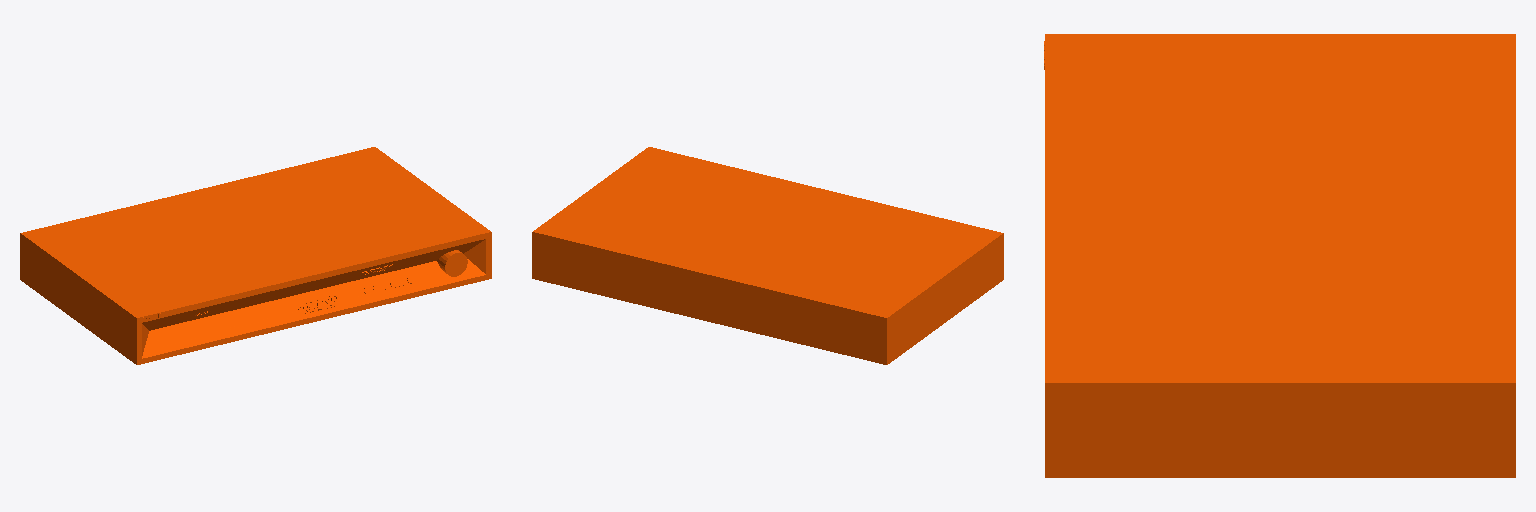
robot.urdf — MediaPlayer_9a58a1b4c67869f37a0e234f9234f844:
<?xml version="1.0" ?>
<robot name="MediaPlayer_9a58a1b4c67869f37a0e234f9234f844">
   <material name="obj_color">
      <color rgba="1.0 0.423529411765 0.0392156862745 1.0"/>
   </material>
   <link name="top">
      <inertial>
         <origin rpy="8.614026943605537e-06 2.578268856319428e-05 3.358041574820445e-05" xyz="-0.0004156640224251239 0.002787803778472666 -4.98381118888581e-06"/>
         <mass value="0.04264578714590586"/>
         <inertia ixx="8.614028009485967e-06" ixy="-4.267204877913518e-09" ixz="3.630450465956032e-10" iyy="2.578268753846936e-05" iyz="5.289797197108656e-10" izz="3.358041570704894e-05"/>
      </inertial>
      <visual>
         <origin rpy="0 0 0" xyz="0 0 0"/>
         <geometry>
            <mesh filename="top_watertight_tiny.stl" scale="1 1 1"/>
         </geometry>
         <material name="obj_color"/>
      </visual>
      <collision>
         <origin rpy="0 0 0" xyz="0 0 0"/>
         <geometry>
            <mesh filename="top_watertight_tiny.obj" scale="1 1 1"/>
         </geometry>
      </collision>
   </link>
   <link name="bottom">
      <inertial>
         <origin rpy="1.633333333199431e-08 1.633333333199431e-08 1.633333333362855e-08" xyz="0.3464080000000008 0.3464080000000008 0.3464080000000008"/>
         <mass value="0.0009800000000000017"/>
         <inertia ixx="1.633333333253906e-08" ixy="5.447480642029219e-19" ixz="5.447480642029219e-19" iyy="1.633333333253906e-08" iyz="5.447480642029219e-19" izz="1.633333333253906e-08"/>
      </inertial>
      <visual>
         <origin rpy="0 0 0" xyz="0 0 0"/>
         <geometry>
            <mesh filename="bottom_watertight_tiny.stl" scale="1 1 1"/>
         </geometry>
         <material name="obj_color"/>
      </visual>
   </link>
   <joint name="rotation" type="revolute">
      <origin xyz="0 0 0"/>
      <axis xyz="0 0 -1"/>
      <parent link="bottom"/>
      <child link="top"/>
      <dynamics damping="1.0" friction="1.0"/>
      <limit effort="0.1" velocity="0.1" lower="0" upper="0.001"/>
   </joint>
</robot>

--- Facts derived from the render (not from the file) ---
3 views of the same robot in one strip: view 1: azimuth 30°, elevation 25°; view 2: azimuth 150°, elevation 25°; view 3: azimuth 270°, elevation 25° (orthographic).
Robot: MediaPlayer_9a58a1b4c67869f37a0e234f9234f844 — 2 links, 1 joints (1 revolute); root link bottom; default pose: all joints at 0.
Links seen in each view (by area): view 1: top; view 2: top; view 3: top.
Link boxes in pixels (x1=…): top: x1=20, y1=147, x2=491, y2=364; top: x1=532, y1=147, x2=1003, y2=364; top: x1=1044, y1=34, x2=1515, y2=477.
Bounding box of the posed robot: 0.0845 × 0.0481 × 0.0107 m (x, y, z).
1 mesh visuals loaded from 2 distinct referenced files (1 binary STL); not drawn: 1 (reference not matched to a file when rendering).
